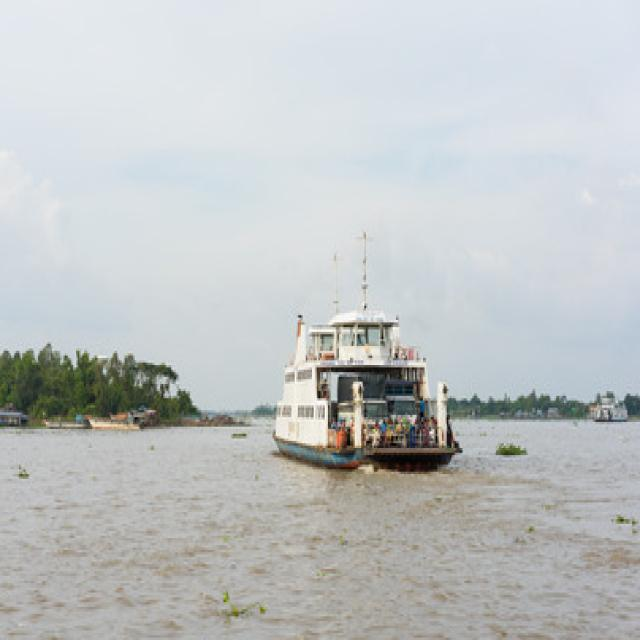cargoship: (253, 256, 459, 462)
